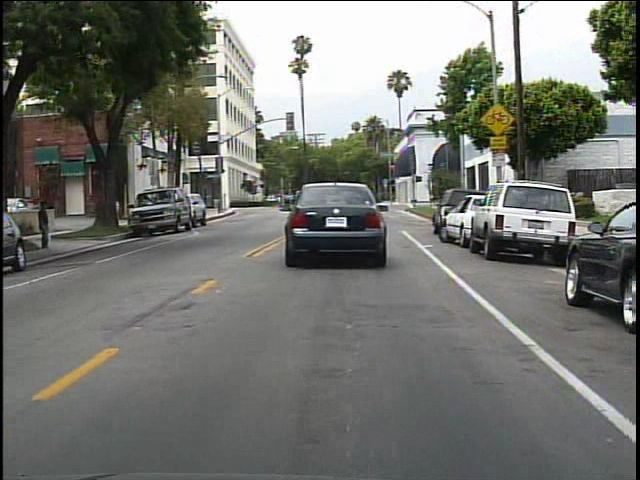person: (39, 198, 57, 251)
